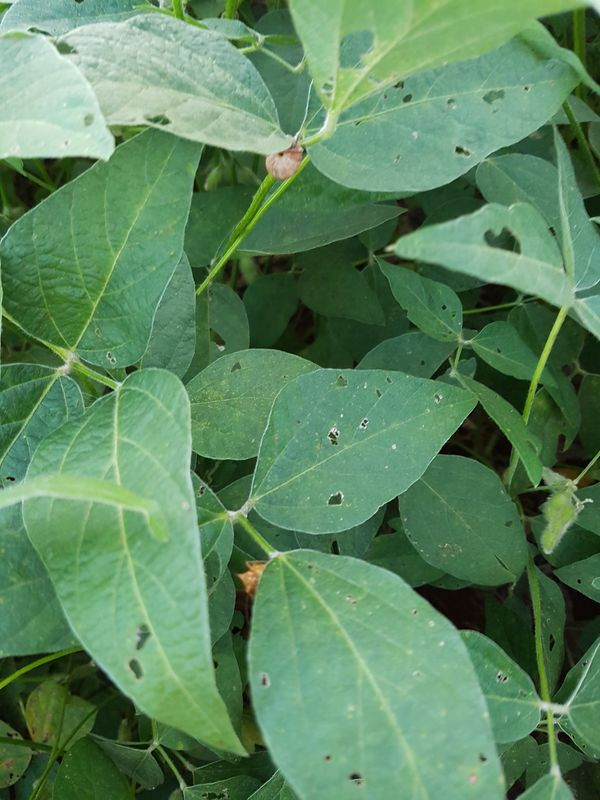Euschistus_heros_adulto: (226, 554, 283, 610)
Gastropoda: (256, 133, 312, 188)
